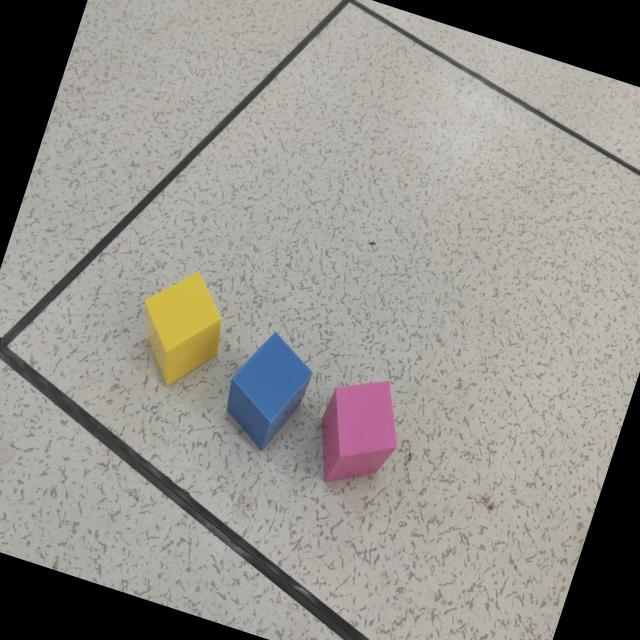blue: (226, 334, 313, 451)
pink: (320, 382, 398, 484)
yellow: (142, 274, 221, 387)
